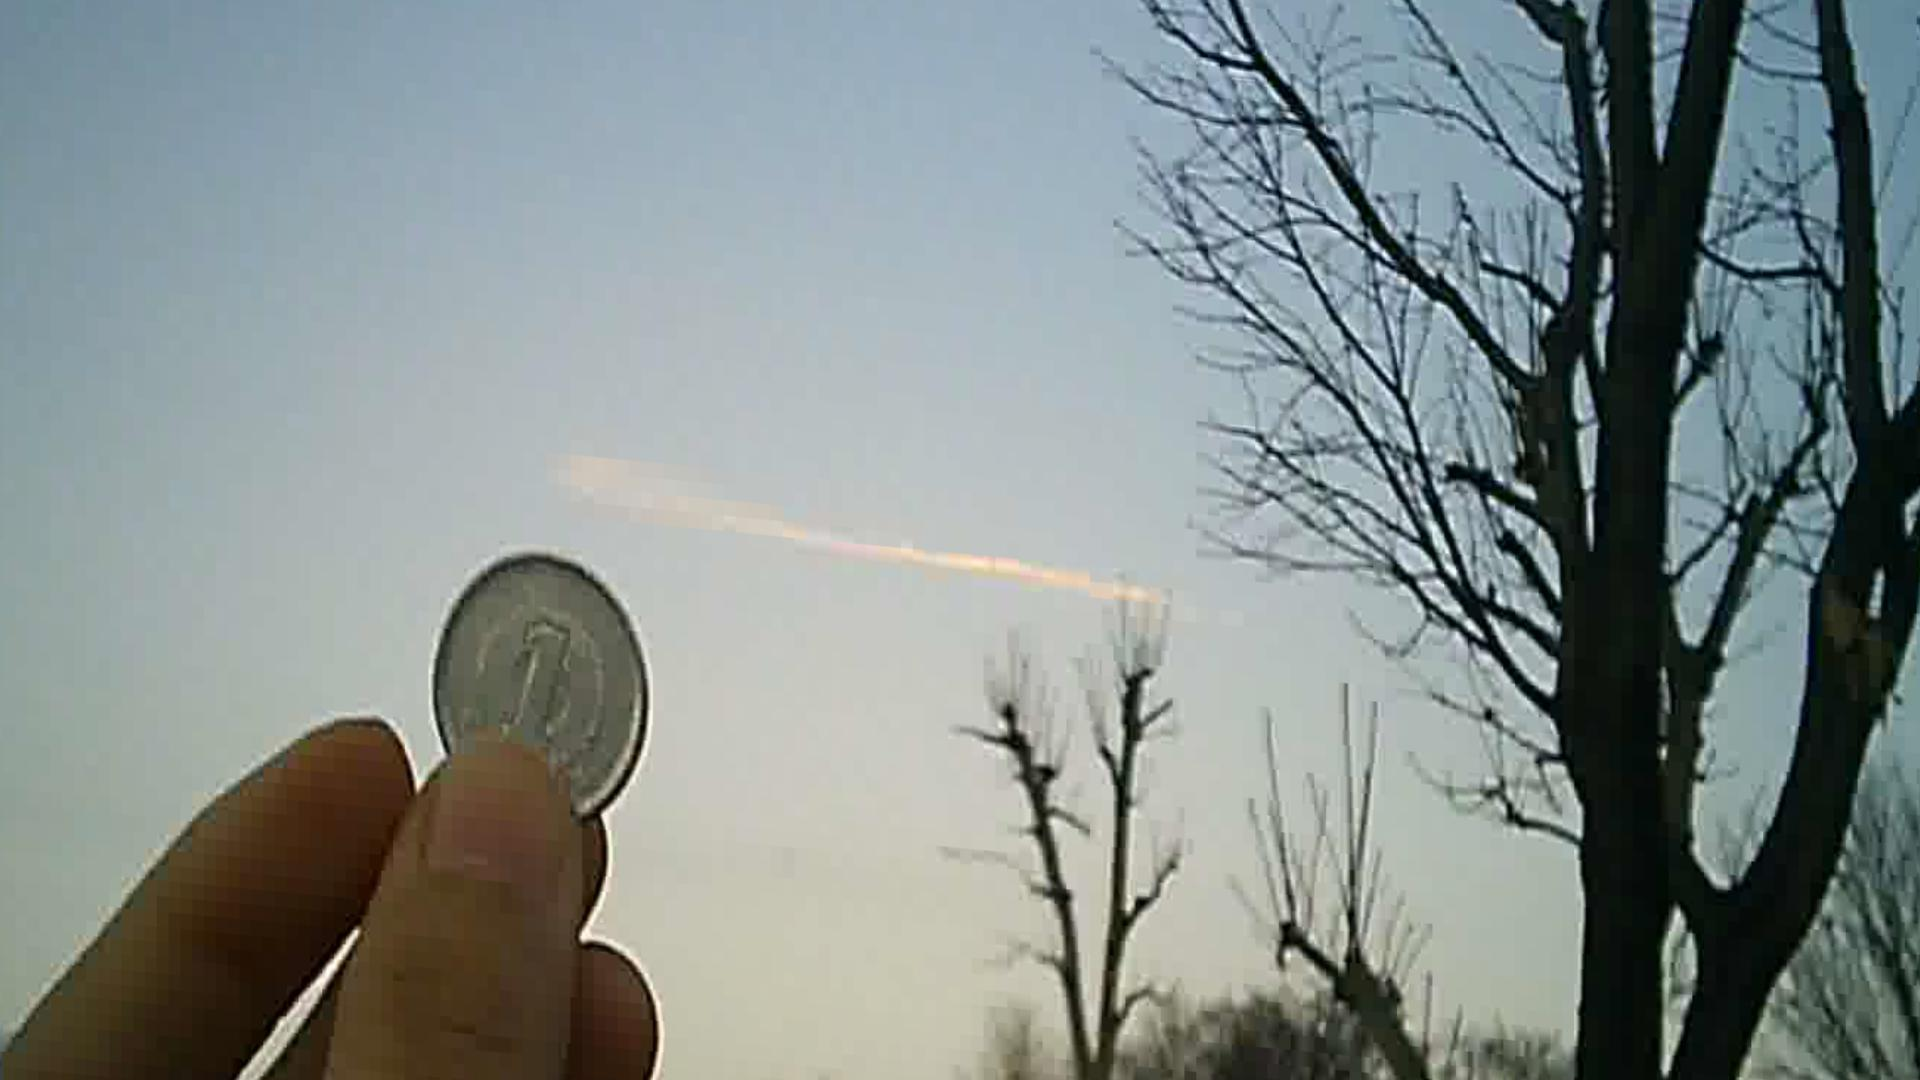1 Yen: (415, 538, 651, 819)
